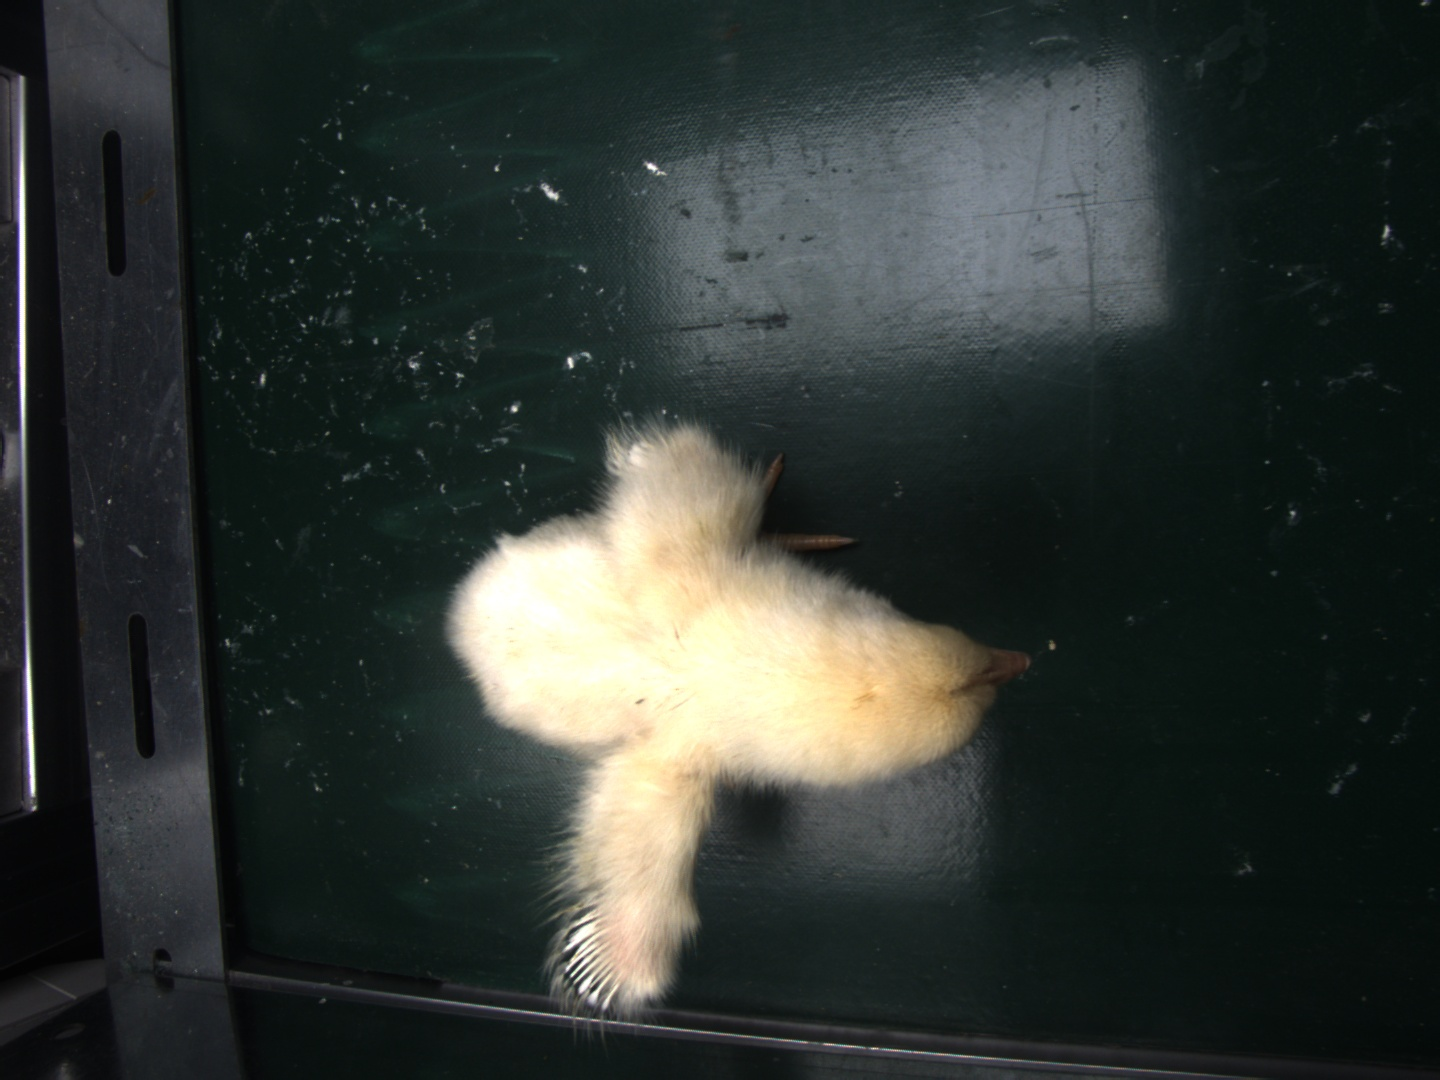male: (560, 911, 622, 1018)
